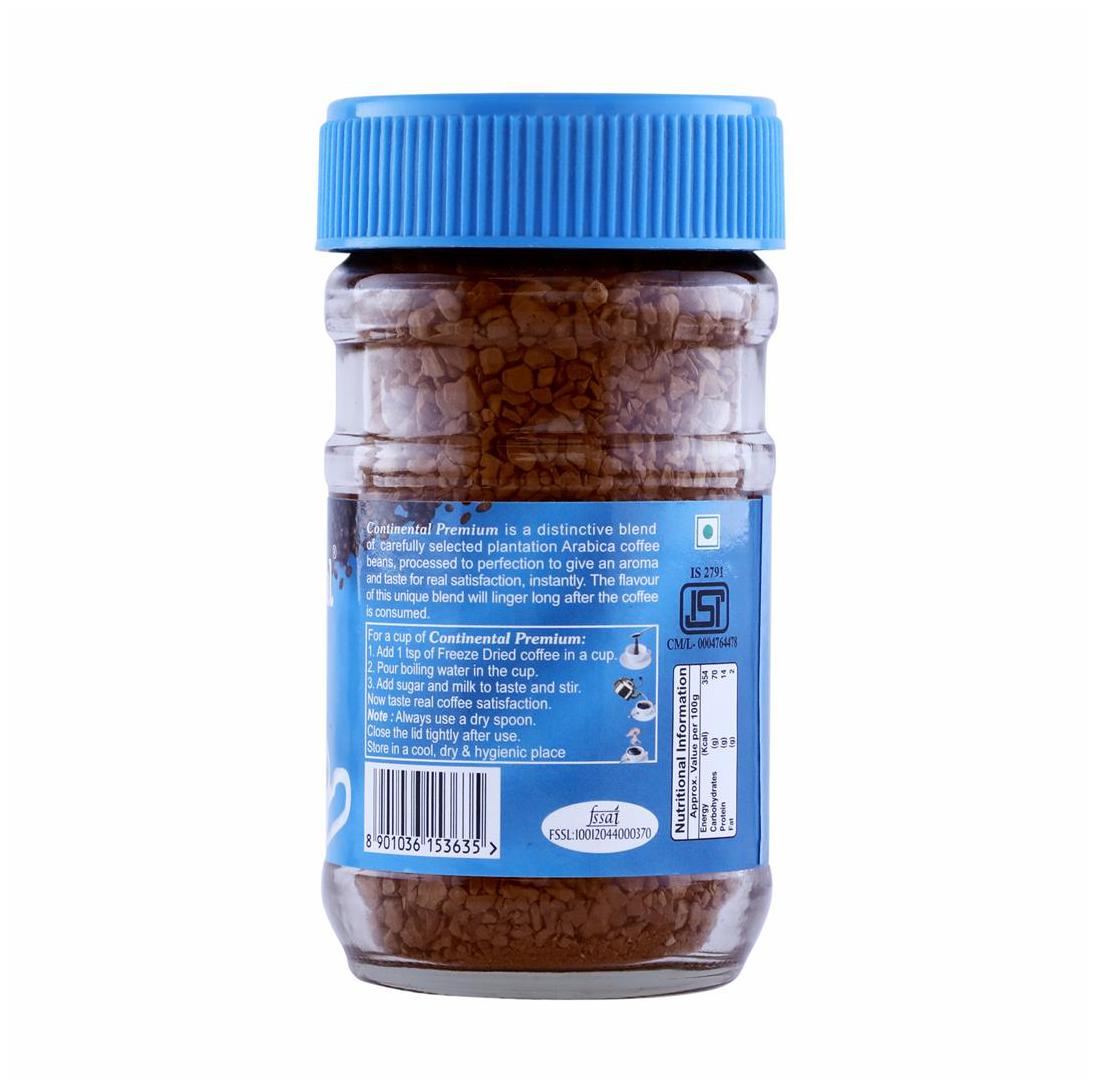fssai: (586, 805, 622, 826)
